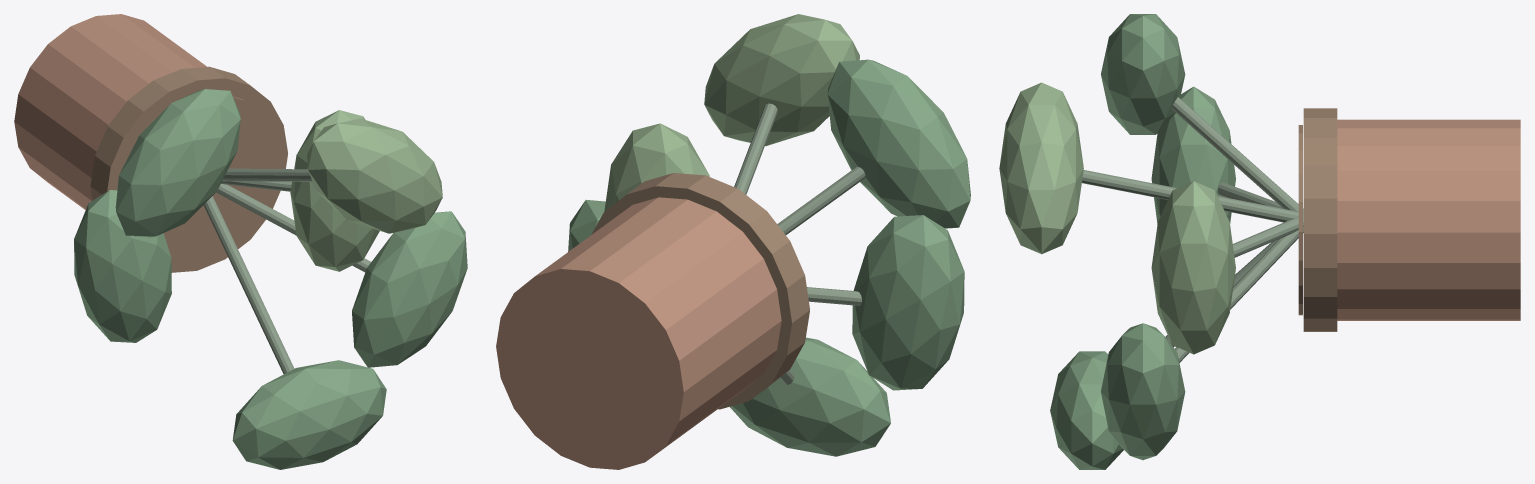
File: desk_plant.glb
The picture shows the model from 3 angles, left to right: view 1: azimuth 30°, elevation 25°; view 2: azimuth 150°, elevation 25°; view 3: azimuth 270°, elevation 25°; orthographic projection. The views are drawn at different scales.
Visible parts, largest first — view 1: terracotta_pot, leaf_1, leaf_5, leaf_2, leaf_3, leaf_4, pot_rim, soil, leaf_0, stem_2, stem_5, stem_3 (+1 smaller); view 2: terracotta_pot, leaf_1, leaf_4, leaf_3, leaf_2, pot_rim, leaf_0, stem_1, stem_3, leaf_5, stem_4; view 3: terracotta_pot, leaf_0, leaf_3, leaf_5, leaf_1, pot_rim, leaf_2, leaf_4, stem_3, stem_1, stem_5, stem_0 (+2 smaller).
Boxes of the visible parts, left/top/right/bottom form: terracotta_pot: left=14, top=14, right=206, bottom=209; leaf_1: left=115, top=89, right=240, bottom=237; leaf_5: left=352, top=211, right=467, bottom=367; leaf_2: left=232, top=360, right=386, bottom=469; leaf_3: left=307, top=118, right=442, bottom=233; leaf_4: left=74, top=190, right=171, bottom=342; pot_rim: left=90, top=66, right=287, bottom=272; soil: left=149, top=96, right=276, bottom=259; leaf_0: left=290, top=110, right=379, bottom=271; stem_2: left=203, top=196, right=294, bottom=373; stem_5: left=216, top=184, right=370, bottom=272; stem_3: left=222, top=168, right=312, bottom=181; terracotta_pot: left=496, top=197, right=781, bottom=469; leaf_1: left=827, top=59, right=970, bottom=228; leaf_4: left=852, top=215, right=964, bottom=390; leaf_3: left=704, top=14, right=859, bottom=146; leaf_2: left=730, top=337, right=890, bottom=456; pot_rim: left=591, top=173, right=809, bottom=409; leaf_0: left=604, top=123, right=709, bottom=211; stem_1: left=777, top=166, right=865, bottom=234; stem_3: left=734, top=103, right=777, bottom=194; leaf_5: left=568, top=200, right=605, bottom=251; stem_4: left=807, top=287, right=861, bottom=305; terracotta_pot: left=1337, top=119, right=1520, bottom=320; leaf_0: left=1151, top=181, right=1235, bottom=354; leaf_3: left=999, top=82, right=1083, bottom=254; leaf_5: left=1101, top=323, right=1185, bottom=460; leaf_1: left=1101, top=14, right=1185, bottom=134; pot_rim: left=1303, top=108, right=1337, bottom=331; leaf_2: left=1050, top=351, right=1123, bottom=469; leaf_4: left=1151, top=86, right=1235, bottom=224; stem_3: left=1082, top=170, right=1303, bottom=222; stem_1: left=1172, top=97, right=1303, bottom=213; stem_5: left=1175, top=227, right=1303, bottom=362; stem_0: left=1232, top=217, right=1303, bottom=257.
Size of the model in its own units: 0.4638 by 0.458 by 0.5365.
